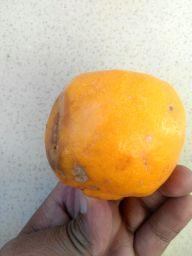Unripe: (45, 71, 185, 197)
